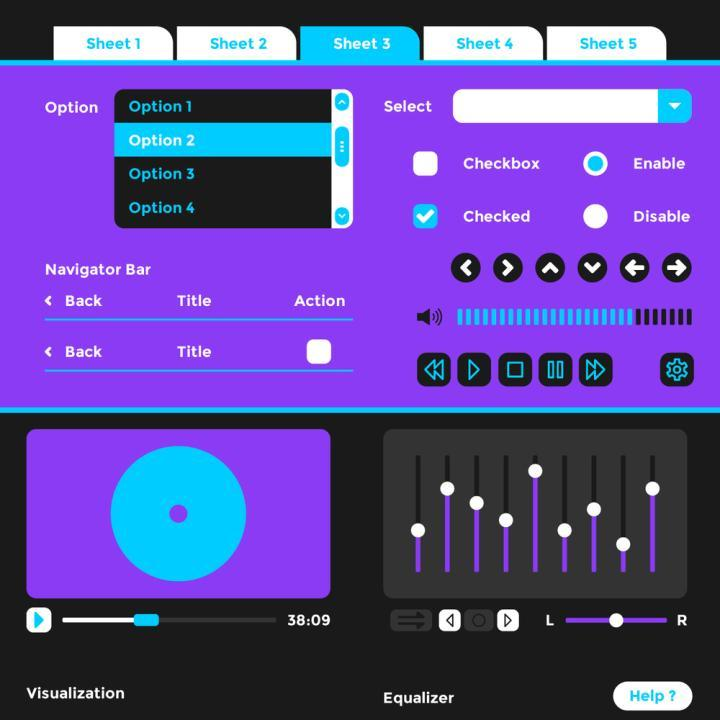button: (546, 27, 670, 65), (427, 27, 544, 65), (299, 29, 421, 63), (54, 28, 172, 63), (179, 30, 298, 59), (612, 683, 693, 709)
checkbox: (415, 151, 439, 178), (415, 204, 440, 229), (308, 340, 332, 366)
dropdown: (454, 91, 693, 124)
icon: (444, 248, 487, 289), (660, 245, 701, 288), (579, 247, 614, 286), (535, 249, 570, 285), (622, 250, 655, 284), (417, 356, 450, 388), (582, 356, 614, 389), (495, 253, 526, 286), (541, 355, 571, 389), (502, 356, 533, 384), (665, 355, 693, 385), (461, 356, 489, 385), (29, 610, 56, 634)
label: (459, 150, 546, 182), (21, 686, 139, 708), (377, 688, 468, 716), (40, 261, 160, 278), (628, 204, 695, 232), (629, 149, 688, 177), (42, 99, 106, 121), (461, 209, 535, 225), (384, 96, 432, 118)
radio: (585, 204, 611, 233), (583, 151, 611, 177)
slider: (60, 610, 284, 631), (456, 309, 697, 328), (541, 610, 687, 630)
